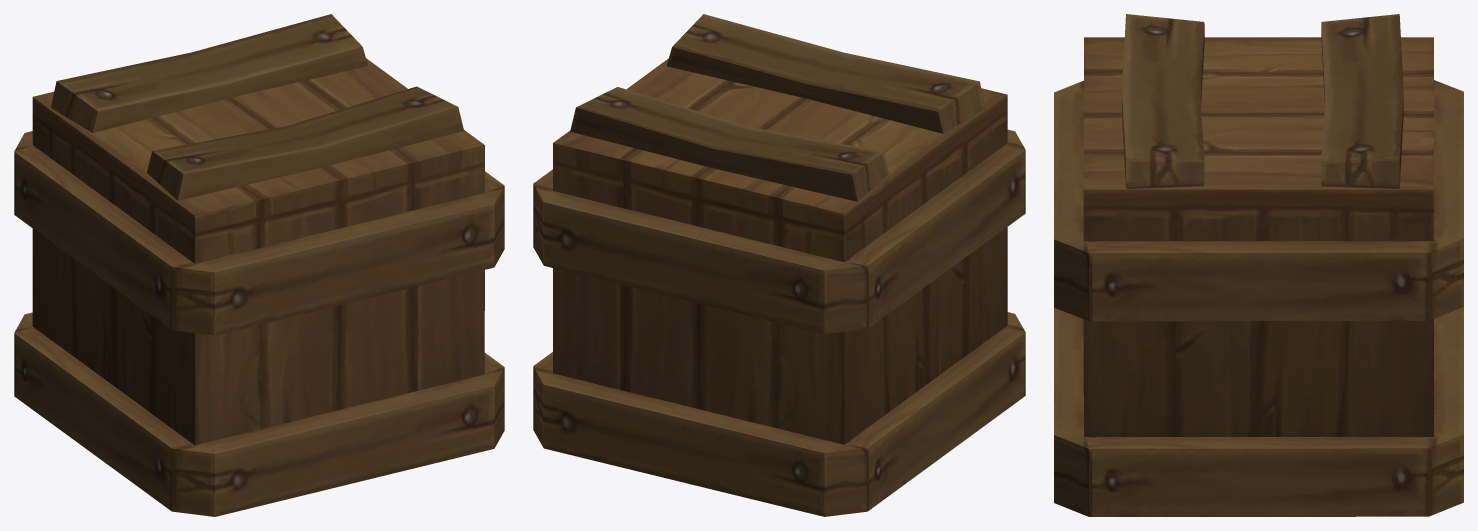
File: q01c_thing_010.FBX
3 renders of one model, left to right at view 1: azimuth 30°, elevation 25°; view 2: azimuth 150°, elevation 25°; view 3: azimuth 270°, elevation 25°, orthographic. The views are drawn at different scales.
Visible parts, largest first — view 1: q01c_thing_010_01; view 2: q01c_thing_010_01; view 3: q01c_thing_010_01.
Part boxes in pixels (box(x1,y1,x2,y2)): q01c_thing_010_01: box(14, 14, 504, 516); q01c_thing_010_01: box(533, 14, 1025, 516); q01c_thing_010_01: box(1054, 14, 1463, 516).
Size of the model in its own units: 112 by 102 by 110.
